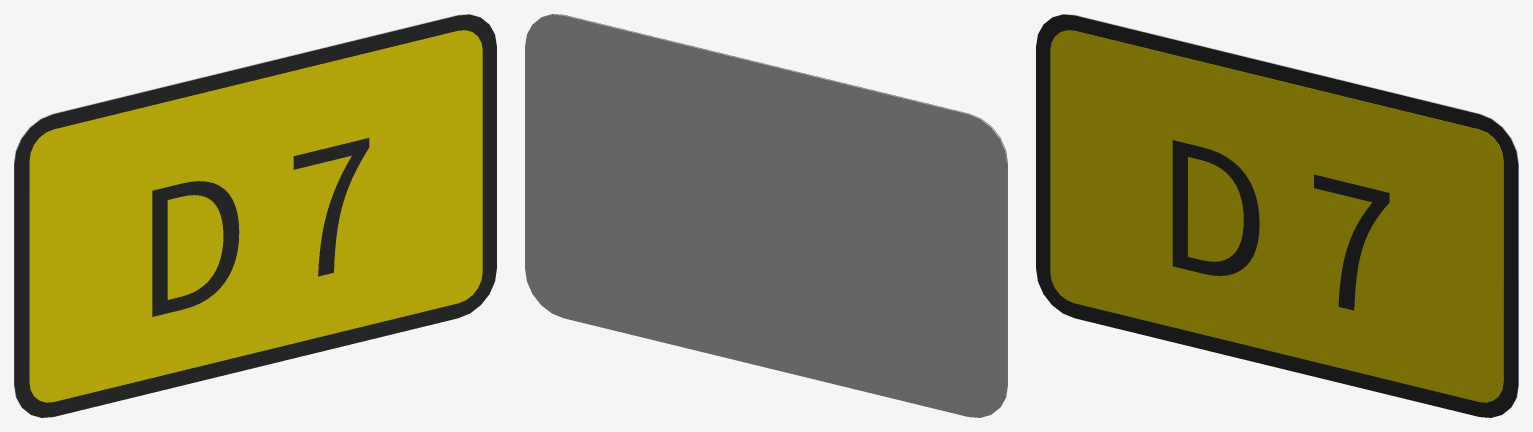
3 views of the same model, side by side, from view 1: azimuth 30°, elevation 25°; view 2: azimuth 150°, elevation 25°; view 3: azimuth 330°, elevation 25° (orthographic).
Parts seen in each view (by area): view 1: E43_fond01, E43_cadre00, E43_txt02, E43_dos; view 2: E43_dos, E43_cadre00; view 3: E43_fond01, E43_cadre00, E43_txt02, E43_dos.
Part boxes in pixels (left/top/right/bottom): E43_fond01: left=29, top=30, right=482, bottom=402; E43_cadre00: left=14, top=14, right=496, bottom=417; E43_txt02: left=152, top=138, right=369, bottom=316; E43_dos: left=14, top=14, right=480, bottom=407; E43_dos: left=525, top=14, right=1007, bottom=417; E43_cadre00: left=545, top=14, right=1007, bottom=403; E43_fond01: left=1050, top=30, right=1503, bottom=402; E43_cadre00: left=1036, top=14, right=1518, bottom=417; E43_txt02: left=1172, top=140, right=1389, bottom=310; E43_dos: left=1052, top=14, right=1518, bottom=407.
Size of the model in its own units: 0.5 by 0.3 by 0.0025.
